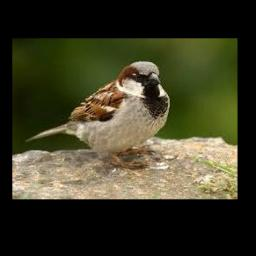Sparrow: (26, 61, 170, 170)
